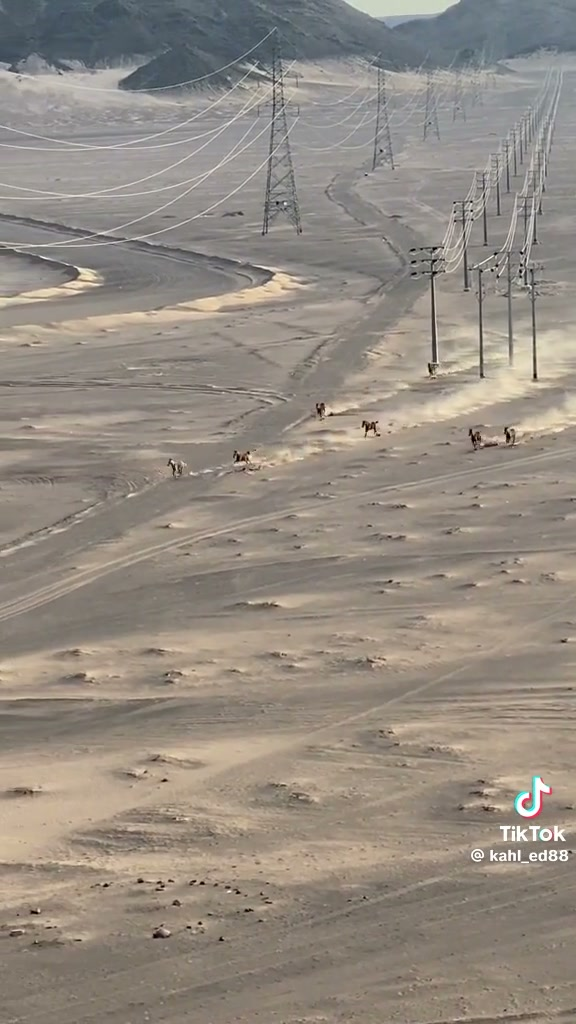animal: (167, 458, 185, 476), (361, 420, 379, 437), (468, 428, 482, 449), (234, 450, 250, 465), (504, 427, 515, 445), (315, 401, 325, 419), (428, 362, 437, 378)
vehicle_track: (0, 510, 277, 621), (0, 480, 158, 557), (423, 870, 565, 927), (0, 377, 289, 401)
